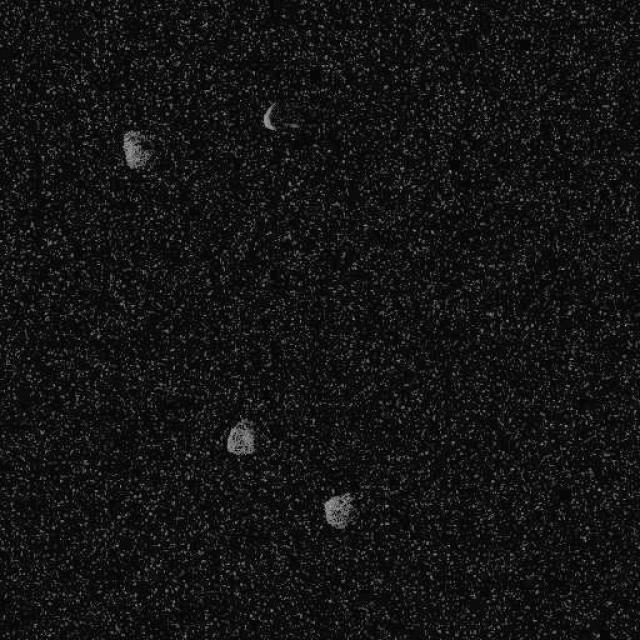D2: (121, 129, 155, 171), (322, 491, 358, 530), (261, 99, 300, 131), (225, 418, 256, 457)
